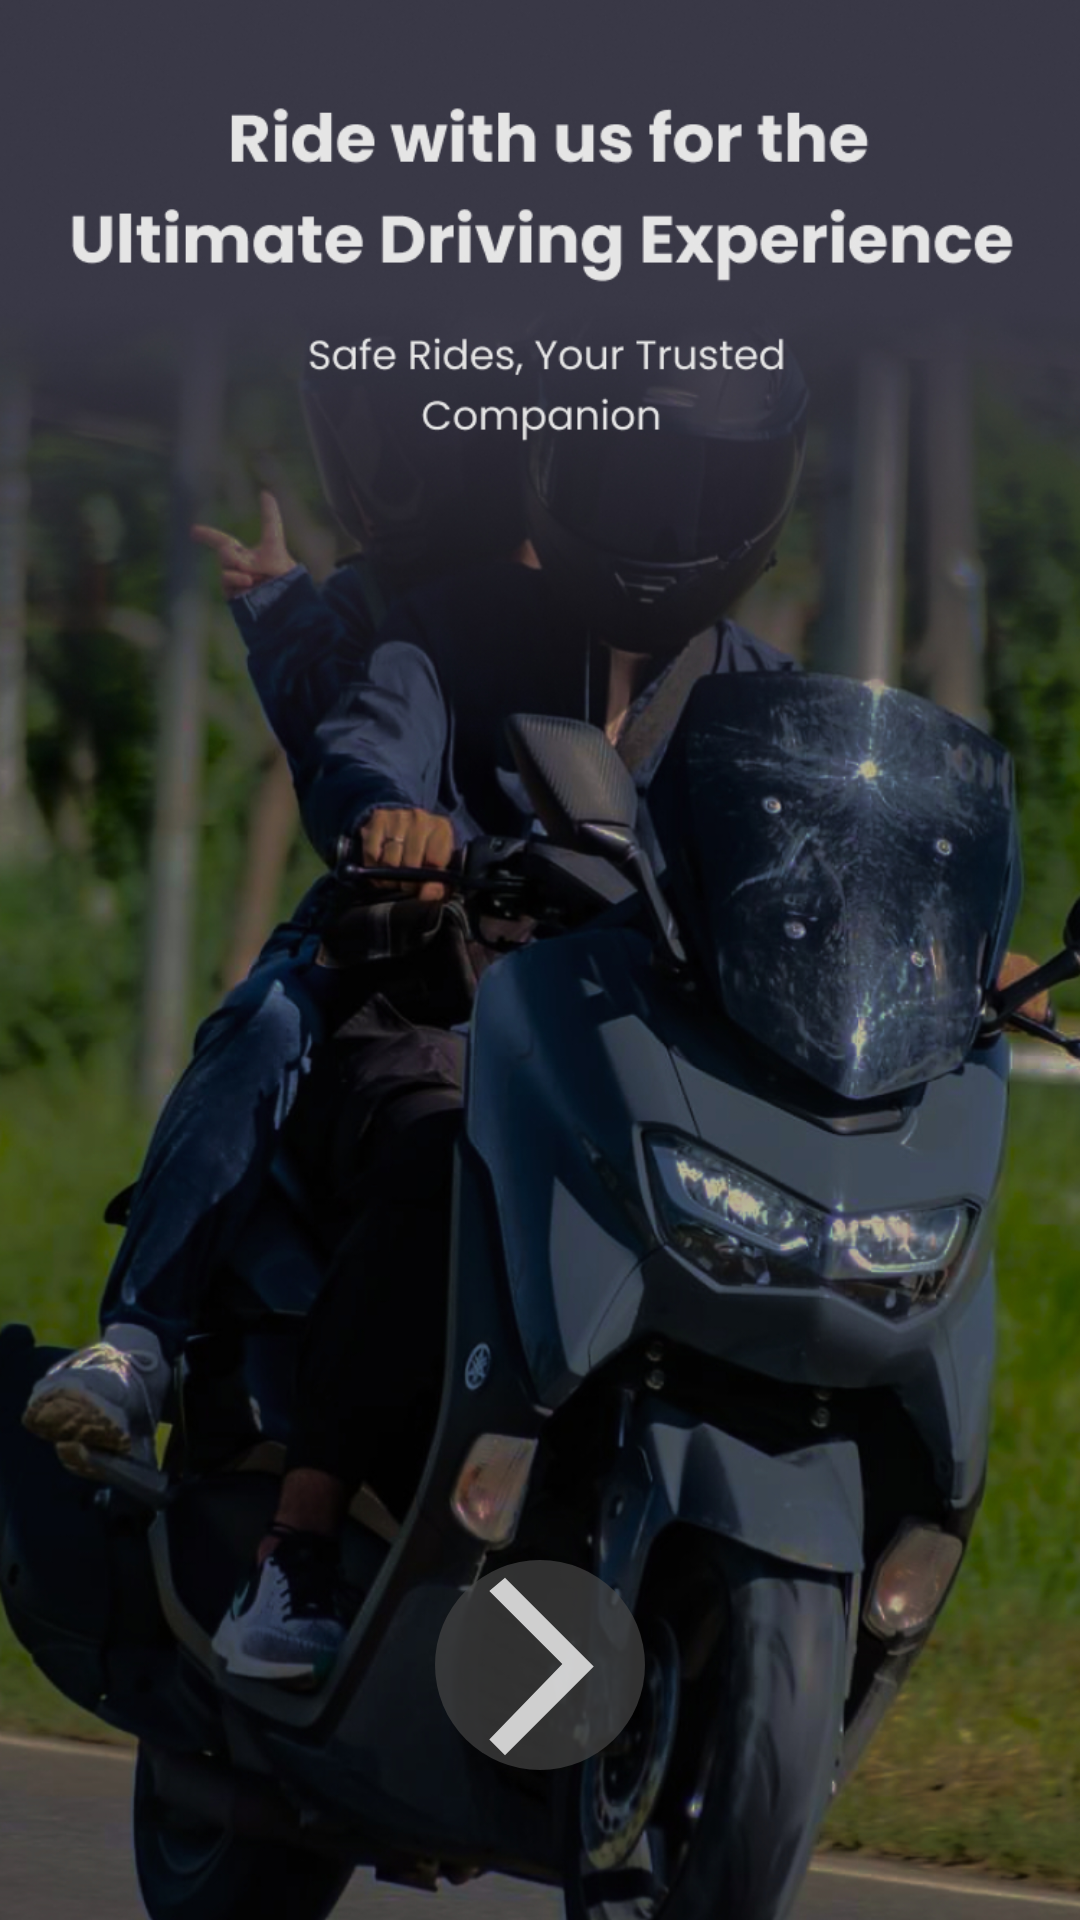

Screen size 1080px x 1920px. Icon name, then its box in pixels as {"x1": x1, "y1": y1, "x2": x2, "y2": y2}:
arrow: {"x1": 435, "y1": 1560, "x2": 645, "y2": 1770}
